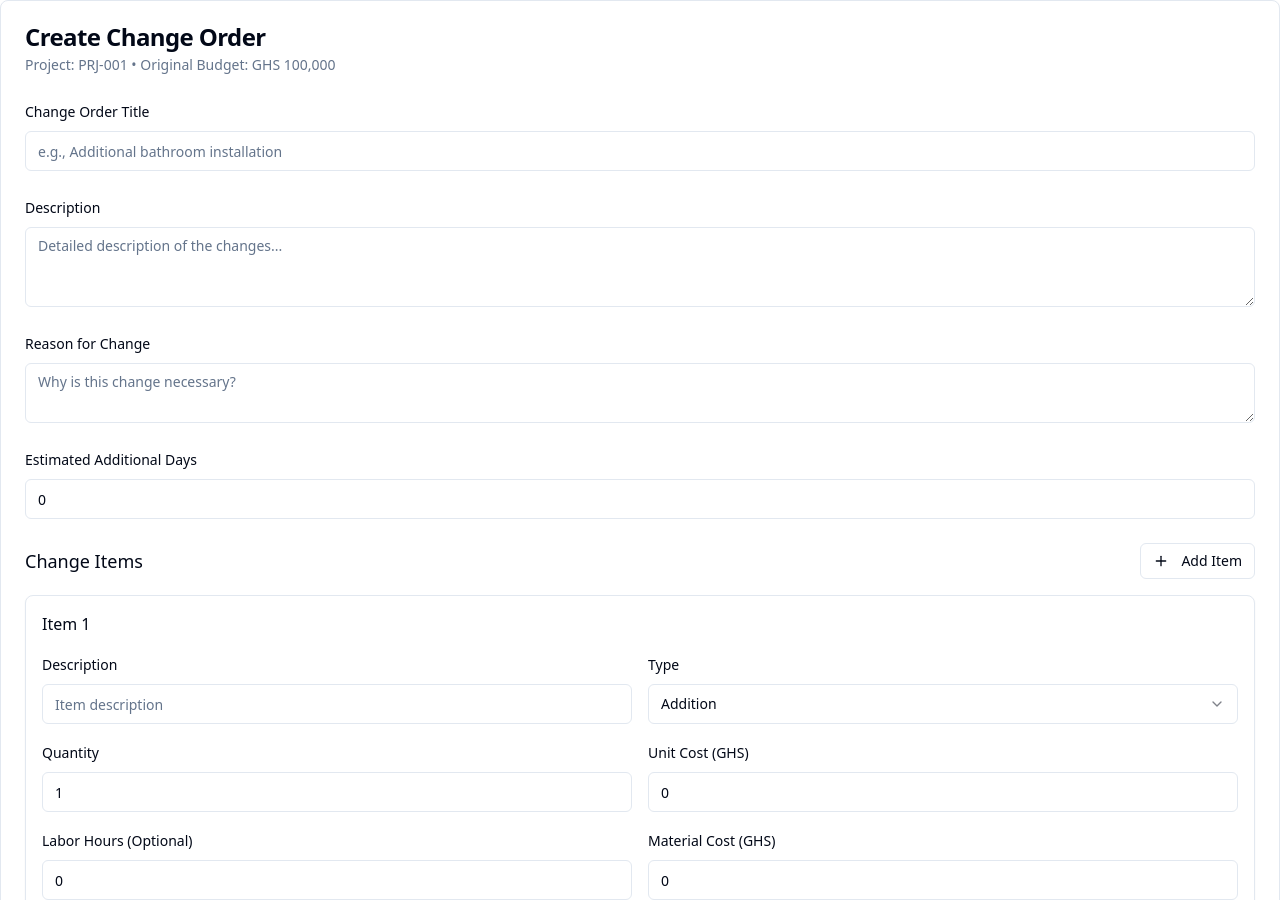
Test: ChangeOrderForm › adds new change items
This screenshot has width=1280, height=900.
Step 1. Click the button "Add Item" → click(1198, 561), box [1140,543,1255,579]
(page scrolled)
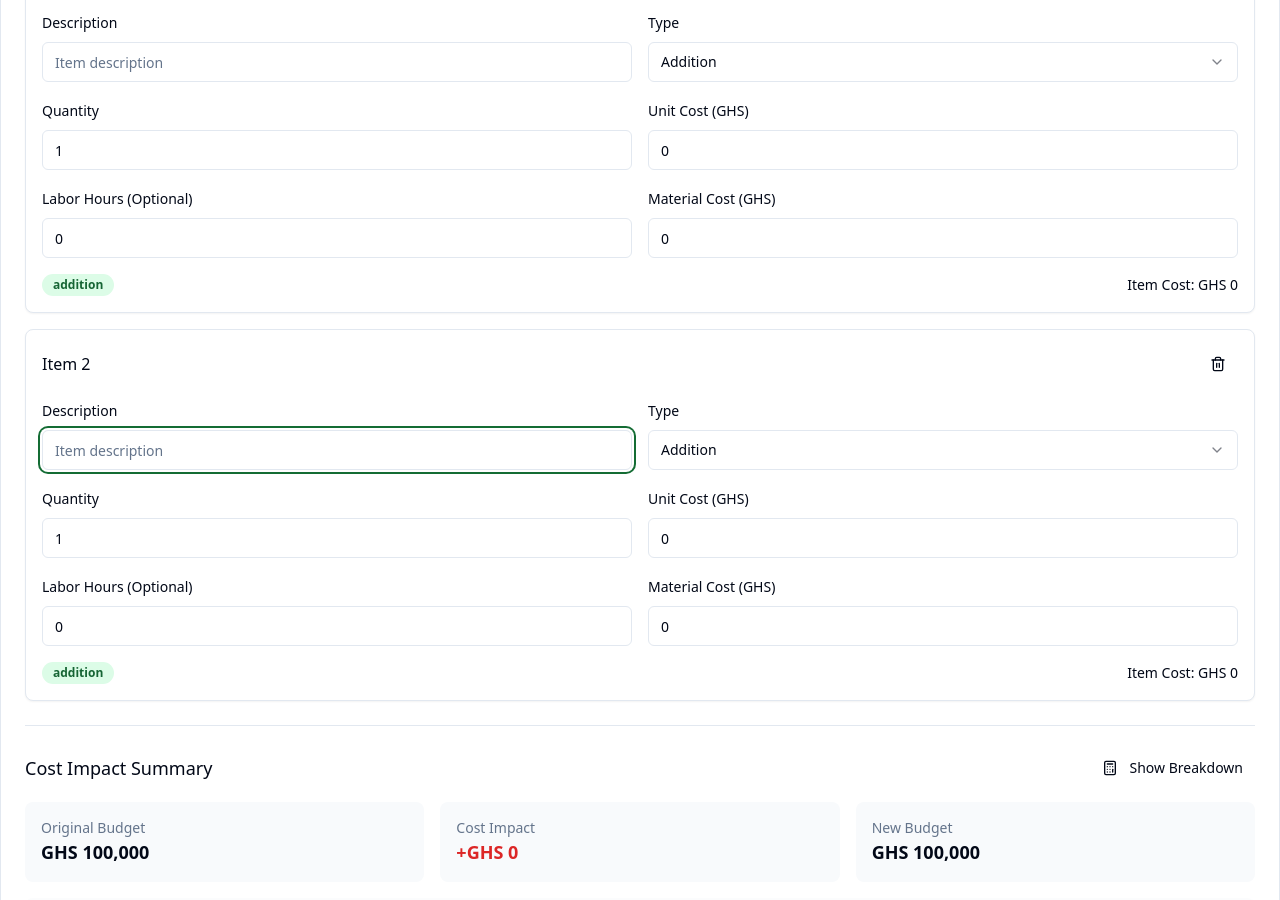
Now the heading "Item 2" is shown, box [42,352,90,376]
